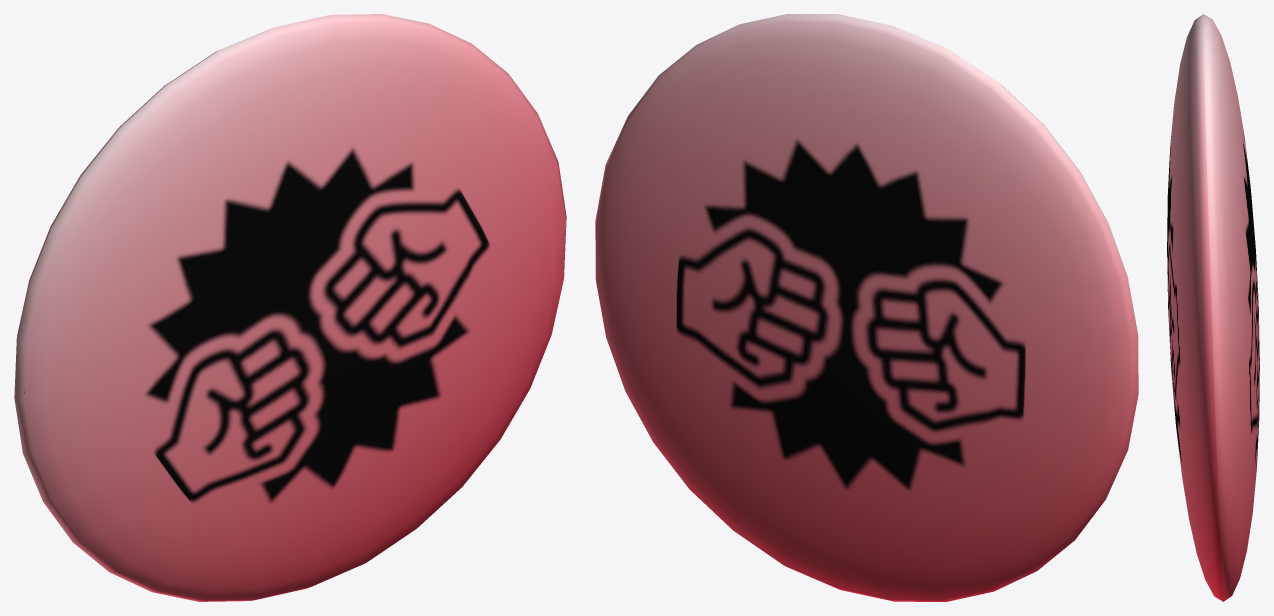
File: VSSymbol.fbx
3 views of the same model, side by side, from view 1: azimuth 30°, elevation 25°; view 2: azimuth 150°, elevation 25°; view 3: azimuth 270°, elevation 25° (orthographic). The views are drawn at different scales.
Visible parts, largest first — view 1: VSSymbol; view 2: VSSymbol; view 3: VSSymbol.
Part boxes in pixels (<box>): VSSymbol: <box>14,14,566,601</box>; VSSymbol: <box>595,14,1138,601</box>; VSSymbol: <box>1167,14,1259,601</box>.
Size of the model in its own units: 99.48 by 99.48 by 15.75.
1 material, 1 textured.
